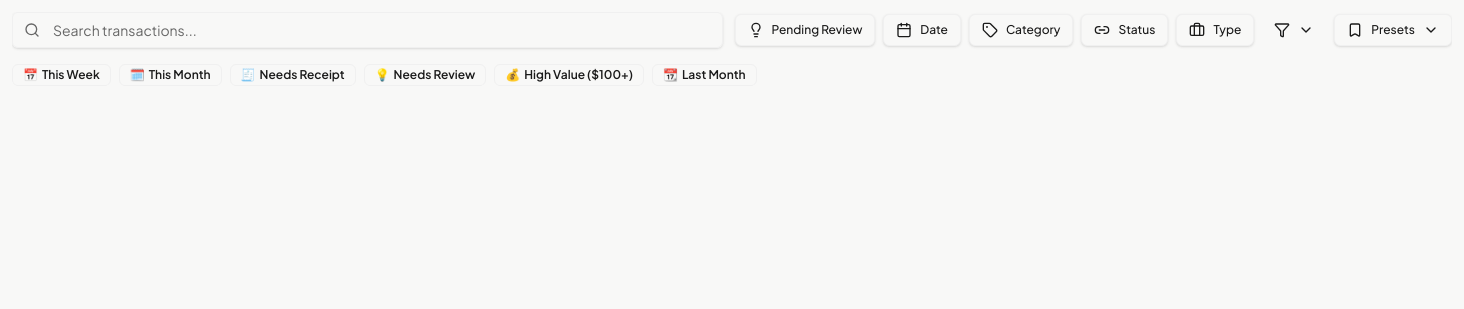
it: TransactionFilterPanel › Date Filter › should show date preset options when clicked
This screenshot has width=1464, height=309.
Click the button "Date". click: {"x": 922, "y": 30}
box: [883, 14, 961, 46]
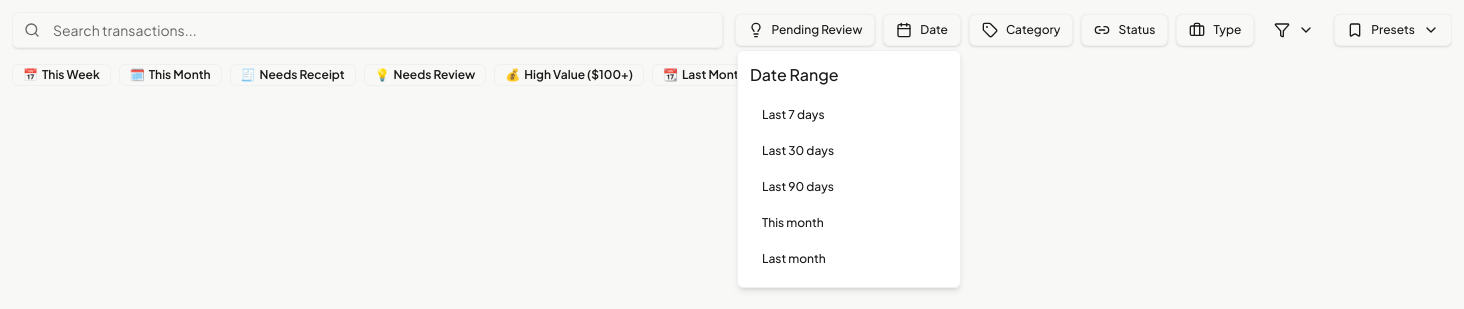
expect the button "Last 7 days" is shown: met, box [750, 99, 948, 131]
expect the button "Last 30 days" is shown: met, box [750, 135, 948, 167]
expect the button "Last 90 days" is shown: met, box [750, 171, 948, 203]
